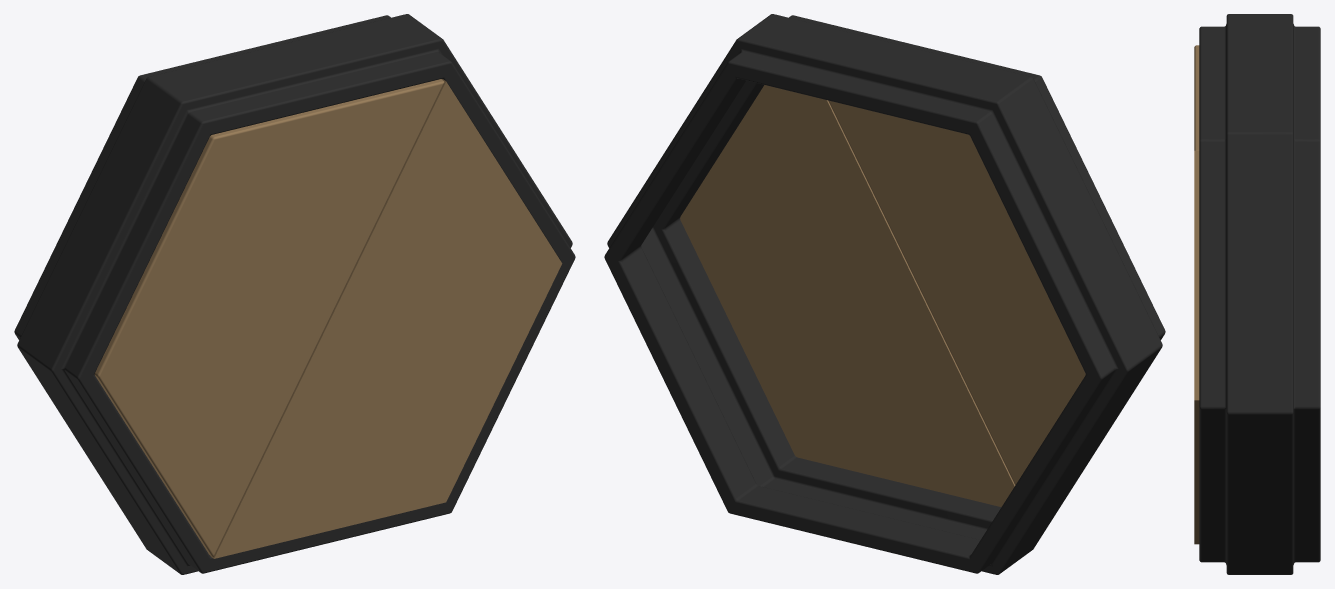
File: doorWoBones.fbx
The picture shows the model from 3 angles, left to right: view 1: azimuth 30°, elevation 25°; view 2: azimuth 150°, elevation 25°; view 3: azimuth 270°, elevation 25°; orthographic projection. The views are drawn at different scales.
Parts seen in each view (by area): view 1: Cylinder.011, Cylinder.012, Cylinder.010; view 2: Cylinder.010, Cylinder.012, Cylinder.011; view 3: Cylinder.010, Cylinder.012, Cylinder.011.
Boxes of the visible parts, <box> form: Cylinder.011: <box>94,79,444,556</box>; Cylinder.012: <box>210,79,562,558</box>; Cylinder.010: <box>14,14,575,574</box>; Cylinder.010: <box>604,14,1165,574</box>; Cylinder.012: <box>680,85,1015,507</box>; Cylinder.011: <box>828,100,1085,485</box>; Cylinder.010: <box>1199,14,1320,574</box>; Cylinder.012: <box>1194,150,1199,544</box>; Cylinder.011: <box>1194,45,1199,150</box>.
Bounding box in the file's own units: 2296 × 1992 × 515.
